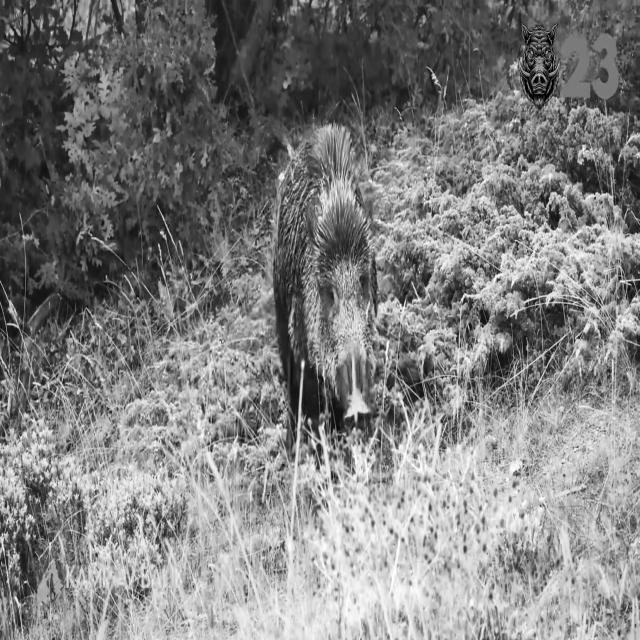boar: (273, 124, 376, 427)
